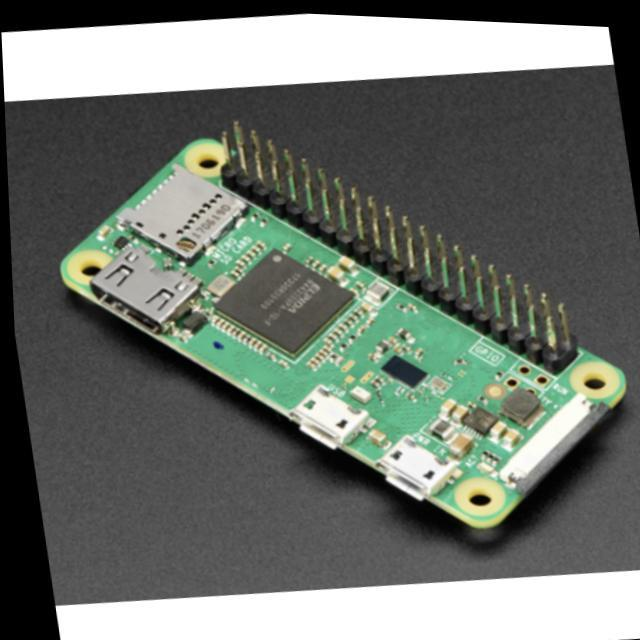Raspberry-Pi-Zero-WH: (62, 123, 626, 530)
